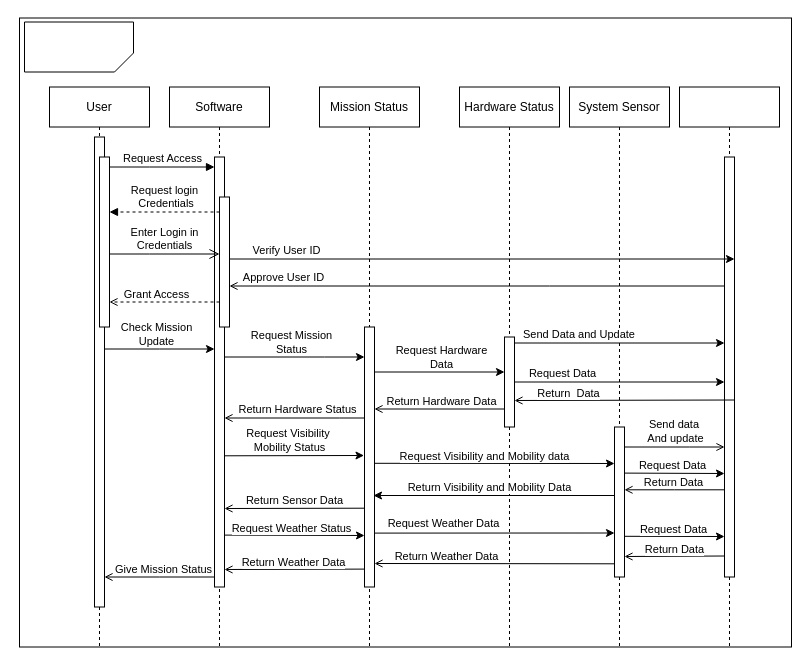
Image size: 809x664. Some labels were removed from this diagram. The box of each missing label's shape, as (x1, y1, x2, y2) in pixels:
DataBase: (678, 86, 780, 647)
Sequence Diagram Mission Status: (24, 21, 134, 72)
